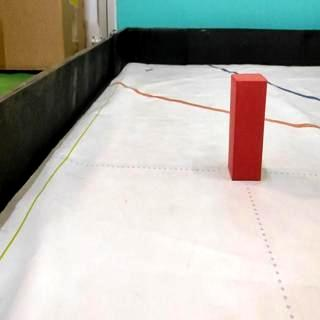redbox: (228, 72, 266, 182)
